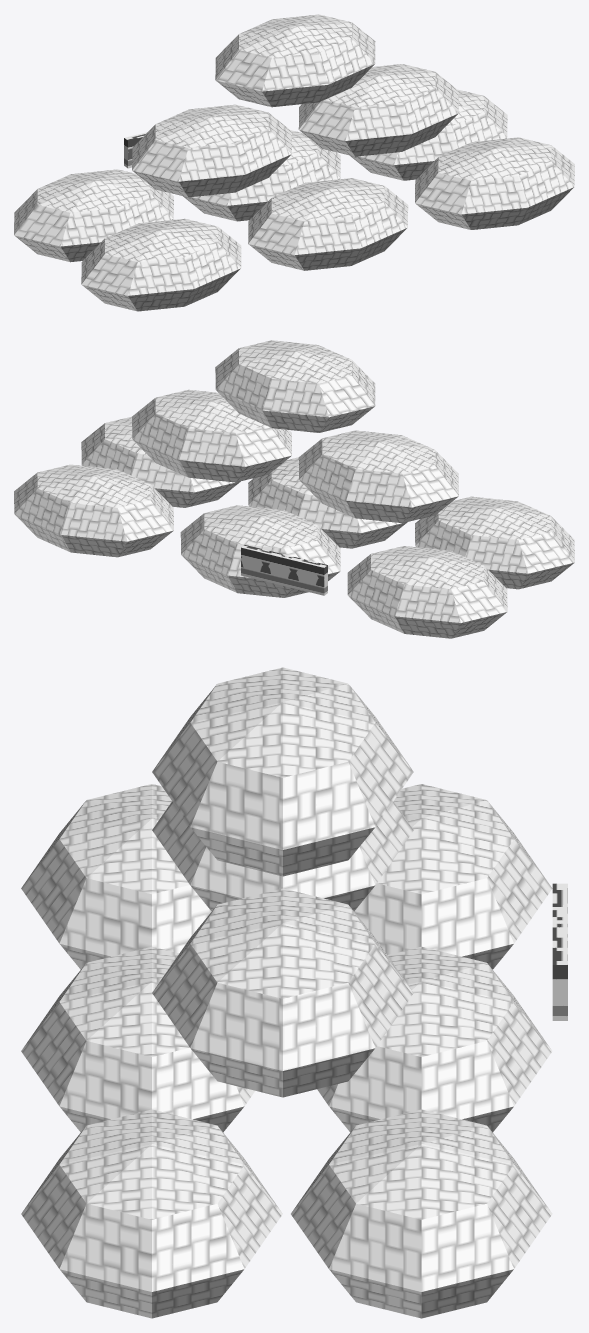
Rendered from sacchi.obj.
3 views of the same model, one above another, from view 1: azimuth 30°, elevation 25°; view 2: azimuth 150°, elevation 25°; view 3: azimuth 270°, elevation 25° (orthographic). The views are drawn at different scales.
Parts seen in each view (by area): view 1: tessuto_000; view 2: tessuto_000, stampa_a_001; view 3: tessuto_000, stampa_a_001.
Boxes of the visible parts, x1,y1,x2,y2 form: tessuto_000: (14, 14, 574, 311); tessuto_000: (14, 340, 574, 638); stampa_a_001: (241, 545, 327, 595); tessuto_000: (21, 667, 552, 1318); stampa_a_001: (552, 883, 567, 1020).
Bounding box in the file's own units: 1.48 × 0.6 × 0.71.
2 materials, 2 textured.
